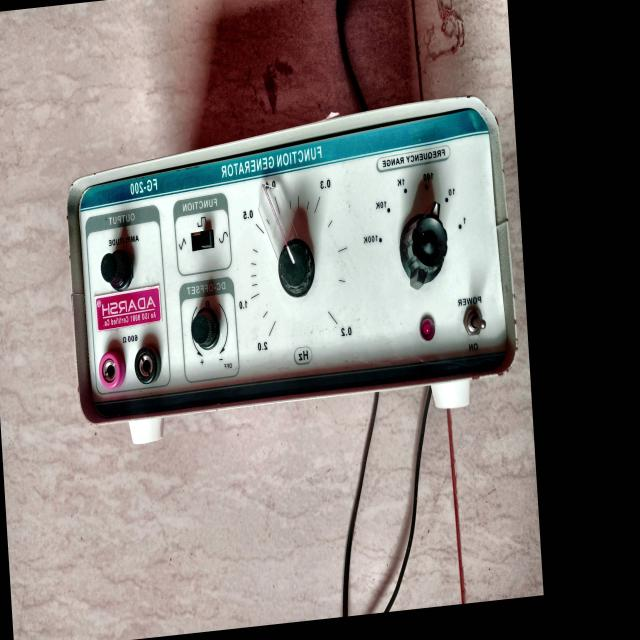Function Generator 100Khz: (52, 79, 526, 452)
